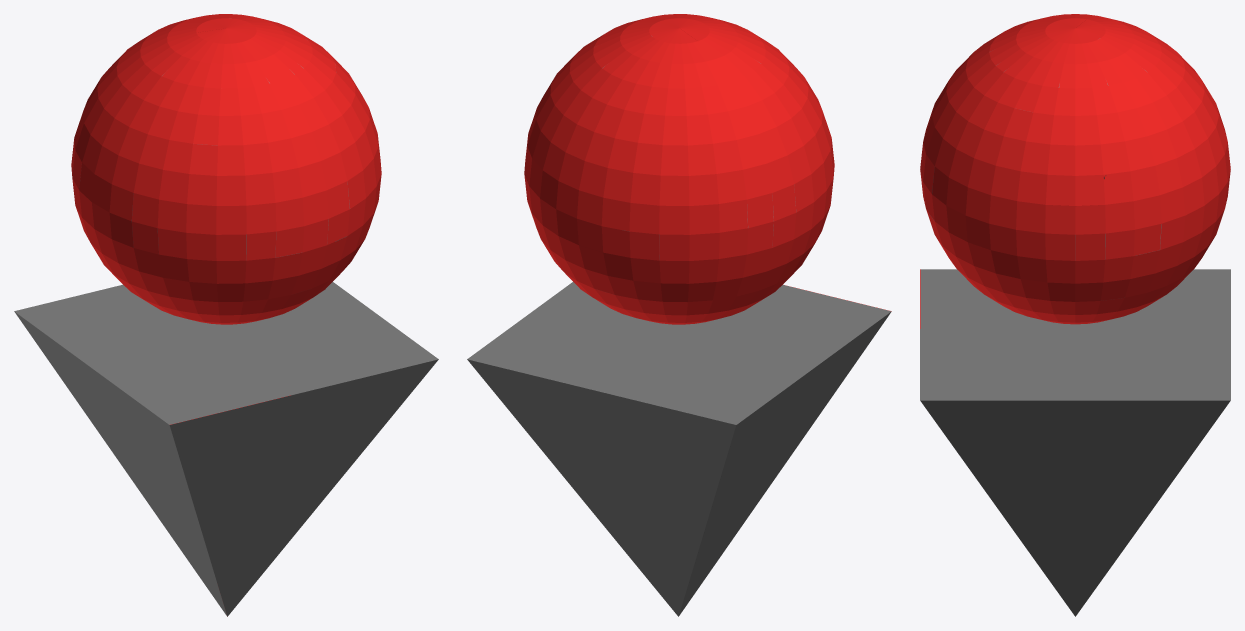
The model's file is enemy.gltf.
3 views of the same model, side by side, from view 1: azimuth 30°, elevation 25°; view 2: azimuth 150°, elevation 25°; view 3: azimuth 270°, elevation 25° (orthographic).
Visible parts, largest first — view 1: Cube.001; view 2: Cube.001; view 3: Cube.001.
Part boxes in pixels (x1,y1,x2,y2): Cube.001: [14, 14, 438, 616]; Cube.001: [467, 14, 891, 616]; Cube.001: [920, 14, 1230, 616].
Size of the model in its own units: 2 by 4.18 by 2.
1 material, 1 textured.
